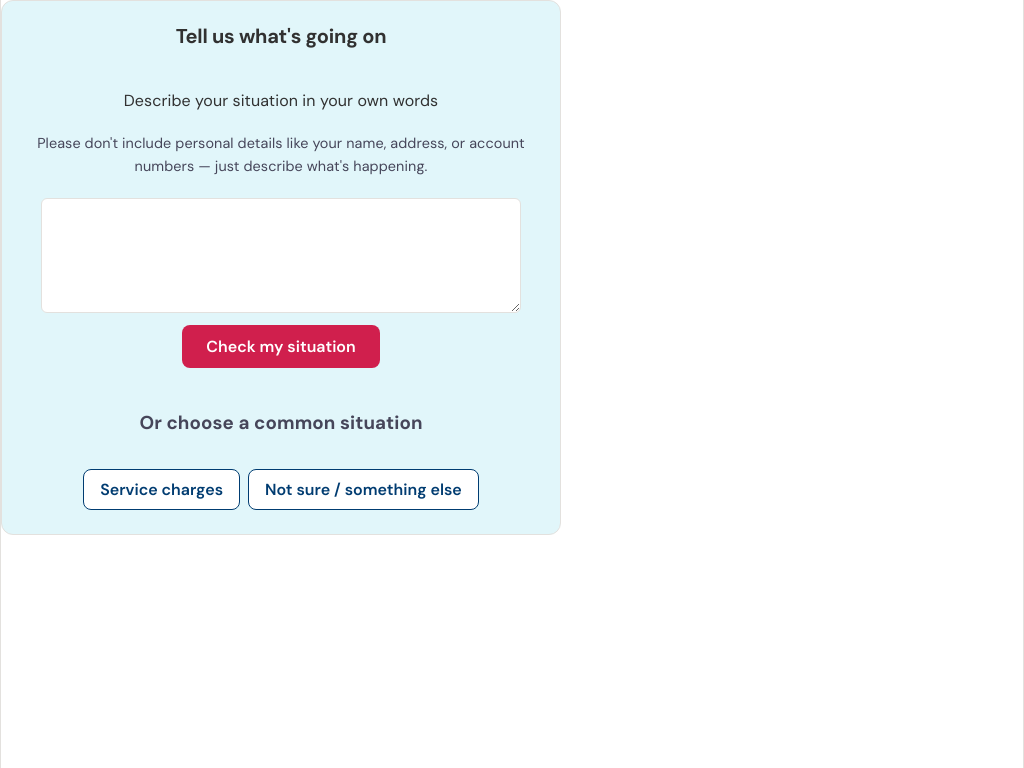
TriageForm › shows a validation error and refocuses the textarea on empty submit
Expected: the button "Service charges" is shown, top-left (83, 469), bottom-right (240, 510)
Click the button "Check my situation" at (281, 347), box top-left (182, 325), bottom-right (380, 368)
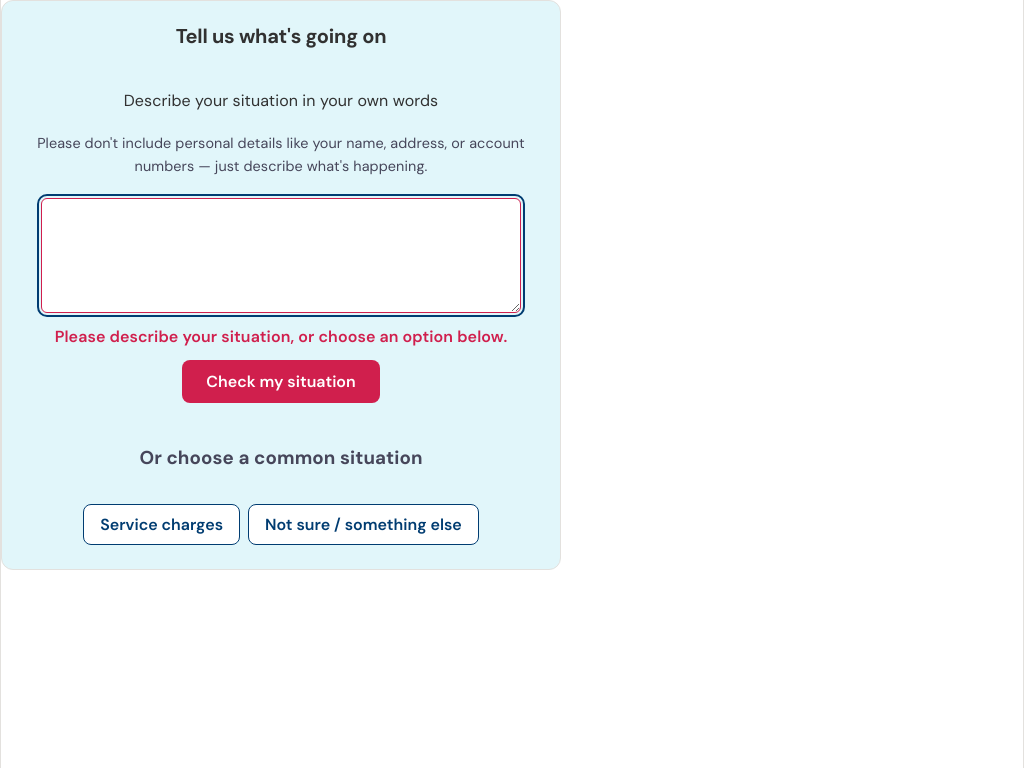
Result: the text "Please describe your situation, or choose an option below." is shown at top-left (55, 325), bottom-right (507, 348)
